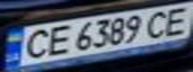3: (90, 17, 112, 48)
6: (72, 19, 96, 52)
8: (109, 15, 130, 46)
9: (124, 12, 148, 44)
C: (18, 26, 54, 61), (142, 8, 175, 39)
E: (157, 3, 193, 37), (42, 22, 75, 56)
